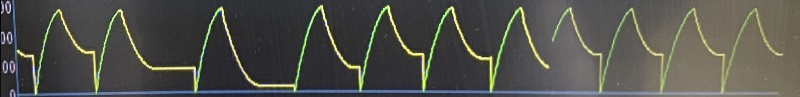leakage: (0, 0, 797, 97)
